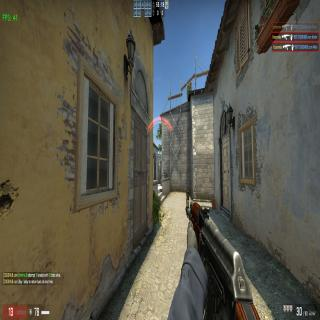CT-Head: (159, 158, 161, 161)
